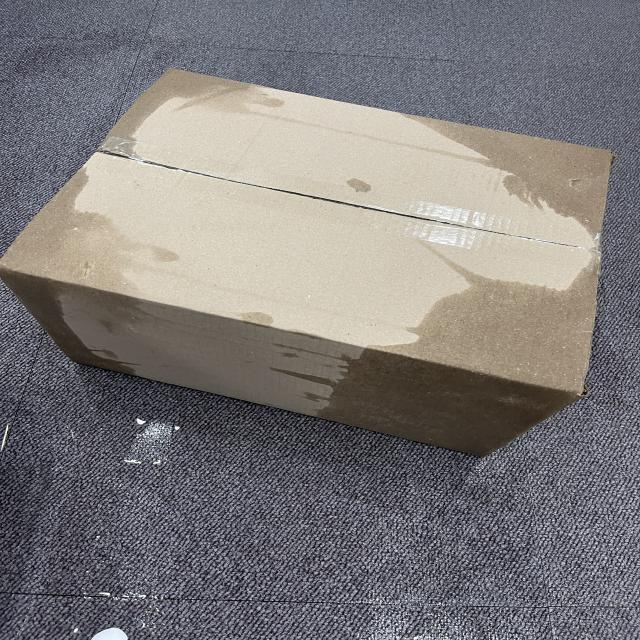wet: (322, 263, 596, 455), (9, 181, 148, 372), (397, 117, 611, 237), (120, 73, 278, 152)
